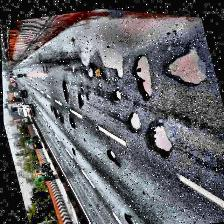pothole: (154, 34, 212, 94), (123, 49, 161, 103), (139, 115, 177, 161), (54, 76, 74, 104), (79, 57, 103, 79), (118, 206, 146, 224), (122, 107, 142, 132), (46, 100, 64, 126), (72, 89, 88, 107), (104, 146, 119, 160), (65, 114, 77, 130), (110, 86, 122, 100)
